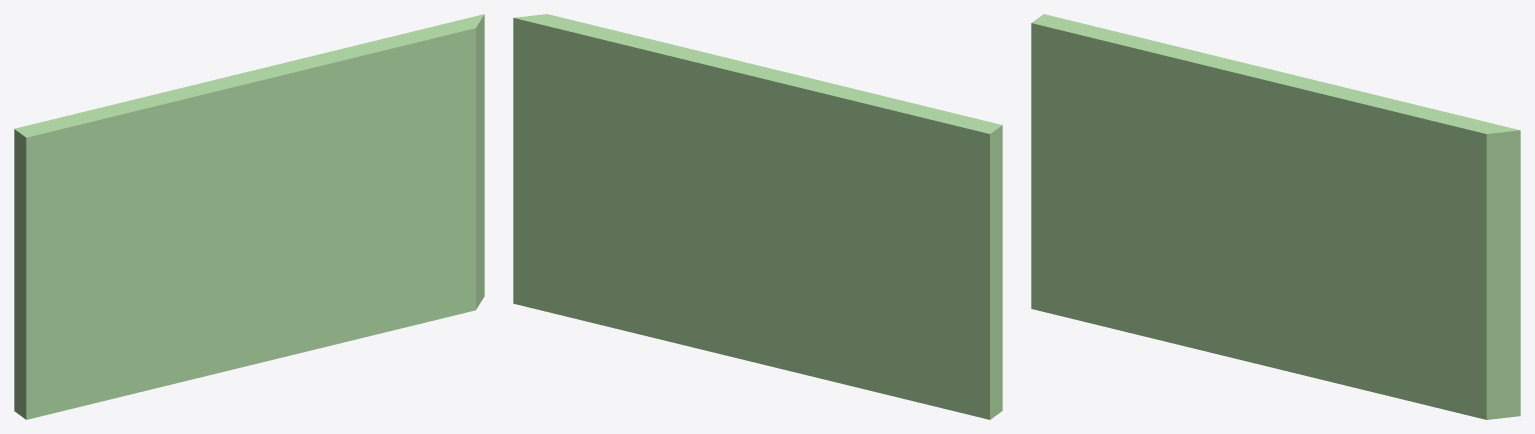
File: Walls and Floors with Doors.fbx_CWall_Outer_Flat.fbx
3 views of the same model, side by side, from view 1: azimuth 30°, elevation 25°; view 2: azimuth 150°, elevation 25°; view 3: azimuth 330°, elevation 25° (orthographic).
Visible parts, largest first — view 1: CWall Outer Flat; view 2: CWall Outer Flat; view 3: CWall Outer Flat.
Boxes of the visible parts, x1,y1,x2,y2 form: CWall Outer Flat: [14, 14, 484, 419]; CWall Outer Flat: [513, 14, 1002, 419]; CWall Outer Flat: [1031, 14, 1520, 419].
Bounding box in the file's own units: 1571 × 900 × 70.71.
